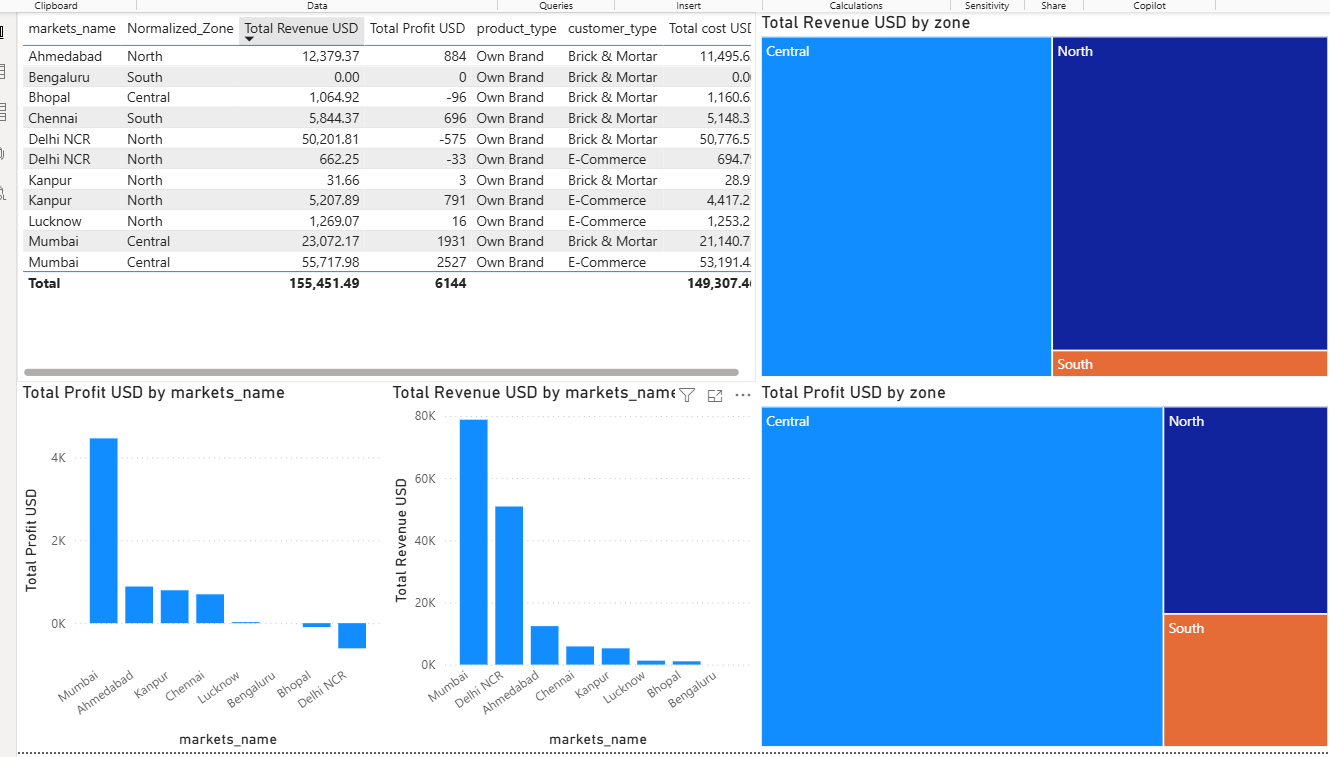

This screenshot's page, from the dashboard's own definition file:
{"tool":"powerbi","page":{"name":"Markets","canvas":[1280,720],"ordinal":3},"visuals":[{"type":"treemap","fields":{"Group":["markets.zone"],"Values":["transactions.Total Revenue USD"]},"box":[718.8,0,561.2,359.9],"z":0},{"type":"treemap","fields":{"Values":["transactions.Total Profit USD"],"Group":["markets.zone"]},"box":[718.8,359.9,561.2,359.9],"z":1000},{"type":"clusteredColumnChart","fields":{"Category":["markets.markets_name"],"Y":["transactions.Total Revenue USD"]},"box":[359.9,359.9,358.9,359.9],"z":2000},{"type":"clusteredColumnChart","fields":{"Y":["transactions.Total Profit USD"],"Category":["markets.markets_name"]},"box":[0,359.9,358.9,359.9],"z":3000},{"type":"tableEx","fields":{"Values":["markets.markets_name","markets.Normalized_Zone","transactions.Total Revenue USD","transactions.Total Profit USD","products.product_type","customers.customer_type","transactions.Total cost USD"]},"box":[0,0,718.8,359.9],"z":4000}]}

Visuals, with their boxes on the page's 1280x720 design canvas (x1, y1, x2, y2). These are canvas units, not pixel positions in the 1330x757 screenshot, which may show the page scaled, cropped or inside an application window:
treemap - markets.zone x transactions.Total Revenue USD: [719,0,1280,360]
treemap - transactions.Total Profit USD x markets.zone: [719,360,1280,720]
clusteredColumnChart - markets.markets_name x transactions.Total Revenue USD: [360,360,719,720]
clusteredColumnChart - transactions.Total Profit USD x markets.markets_name: [0,360,359,720]
tableEx - markets.markets_name x markets.Normalized_Zone: [0,0,719,360]
